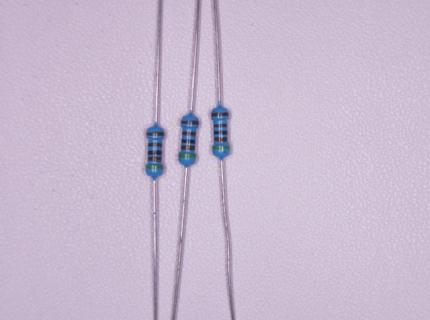Black band: (213, 130, 227, 135), (148, 150, 162, 155), (182, 139, 195, 144)
Brown band: (146, 131, 164, 136), (181, 120, 198, 125), (211, 112, 229, 116), (214, 137, 228, 142), (148, 142, 162, 147), (181, 145, 195, 150), (148, 157, 161, 162), (213, 123, 227, 127), (182, 131, 195, 135)
Green band: (179, 152, 196, 159), (212, 145, 230, 149), (146, 165, 163, 169)
